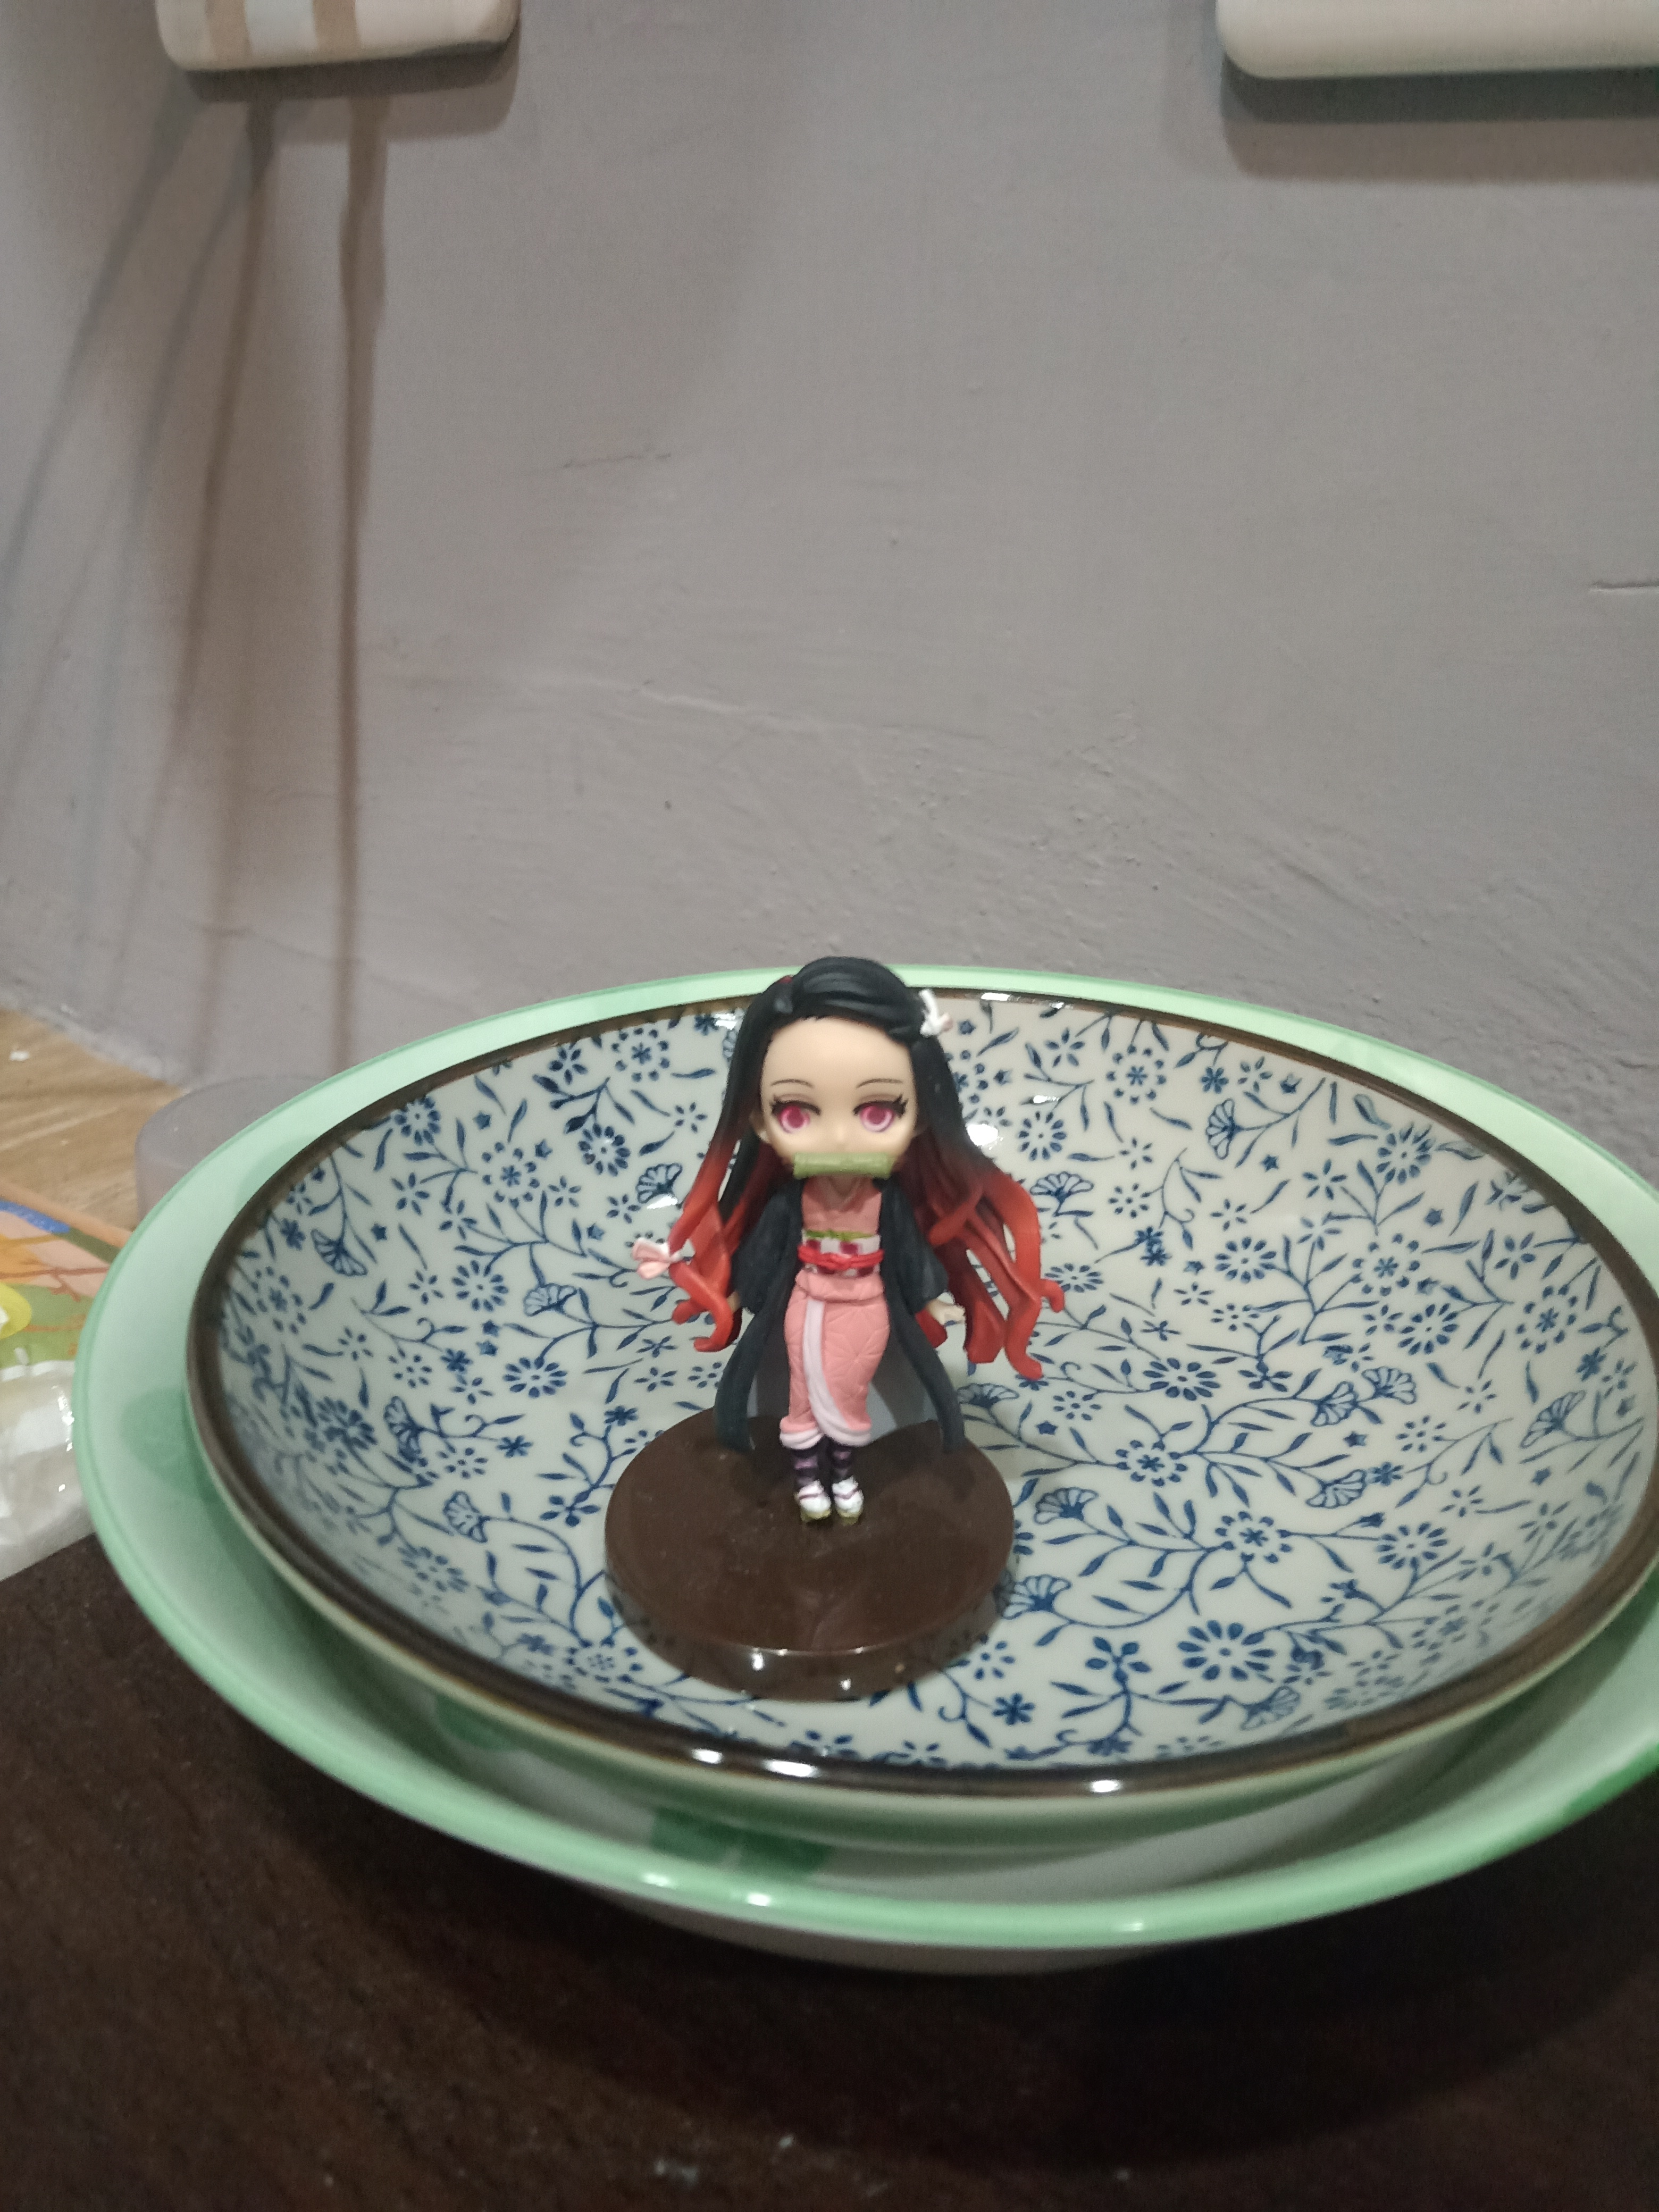Nezuko: (598, 939, 1082, 1707)
